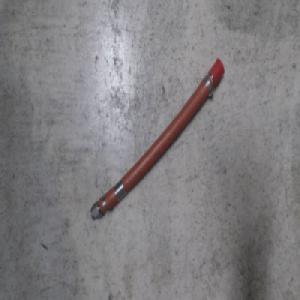Hose: (88, 55, 227, 223)
